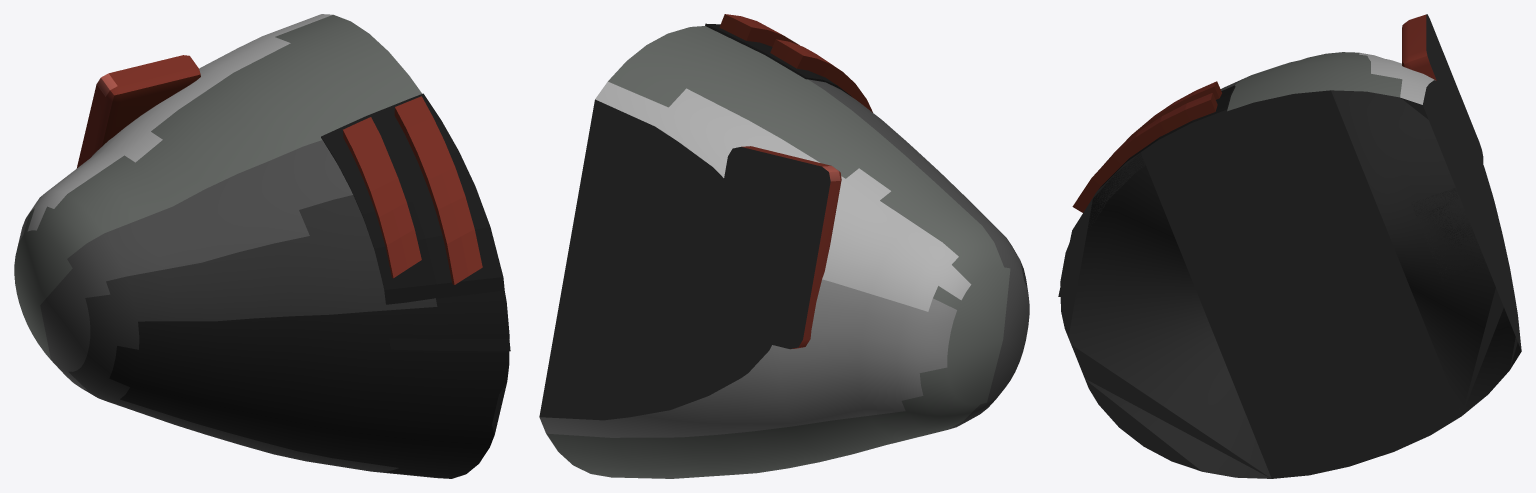
Rendered from deli_tower_38.glb.
3 renders of one model, left to right at view 1: azimuth 30°, elevation 25°; view 2: azimuth 150°, elevation 25°; view 3: azimuth 270°, elevation 25°, orthographic. The views are drawn at different scales.
Parts seen in each view (by area): view 1: deli_tower_38; view 2: deli_tower_38; view 3: deli_tower_38.
Boxes of the visible parts, x1=… form: deli_tower_38: x1=14, y1=14, x2=510, y2=478; deli_tower_38: x1=539, y1=14, x2=1029, y2=478; deli_tower_38: x1=1058, y1=14, x2=1521, y2=478.
Bounding box in the file's own units: 11.45 × 13.41 × 14.49.
